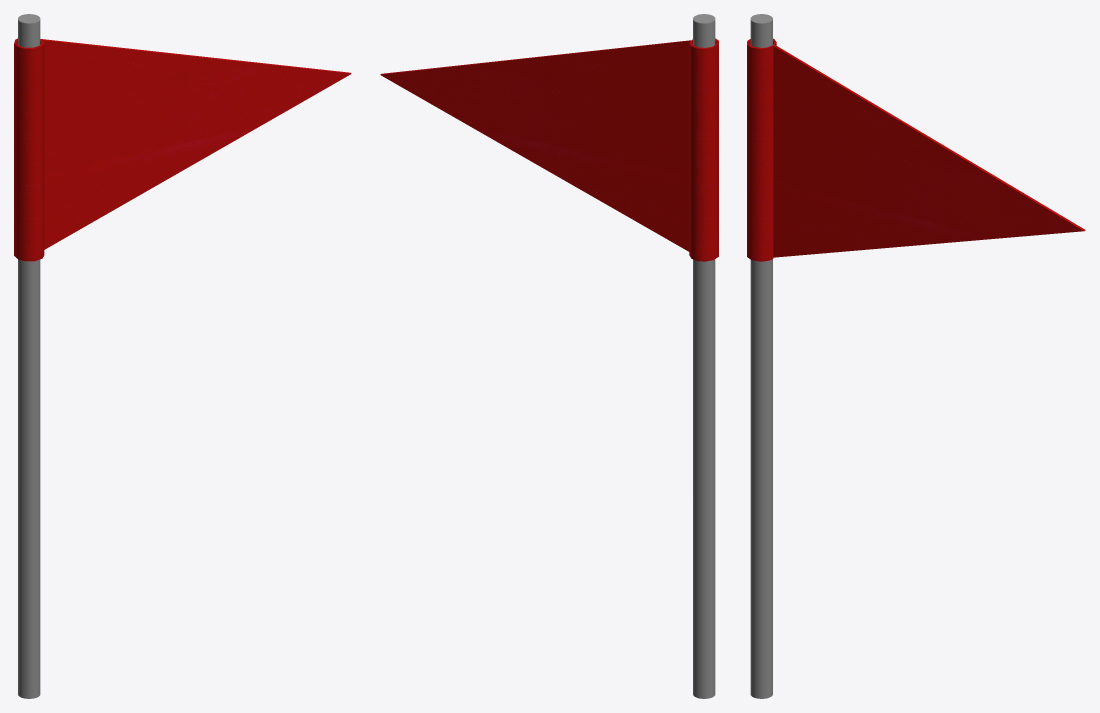
File: Flag.FBX
3 views of the same model, side by side, from view 1: azimuth 30°, elevation 25°; view 2: azimuth 150°, elevation 25°; view 3: azimuth 330°, elevation 25° (orthographic).
Visible parts, largest first — view 1: Plane001, Cylinder001; view 2: Plane001, Cylinder001; view 3: Plane001, Cylinder001.
Boxes of the visible parts, left/top/right/bottom form: Plane001: left=14, top=38, right=351, bottom=261; Cylinder001: left=18, top=14, right=40, bottom=698; Plane001: left=380, top=38, right=718, bottom=261; Cylinder001: left=693, top=14, right=715, bottom=698; Plane001: left=747, top=38, right=1085, bottom=261; Cylinder001: left=750, top=14, right=772, bottom=698.
Size of the model in its own units: 29.13 by 56.06 by 2.35.
Materials: 2 (1 with a texture image).
